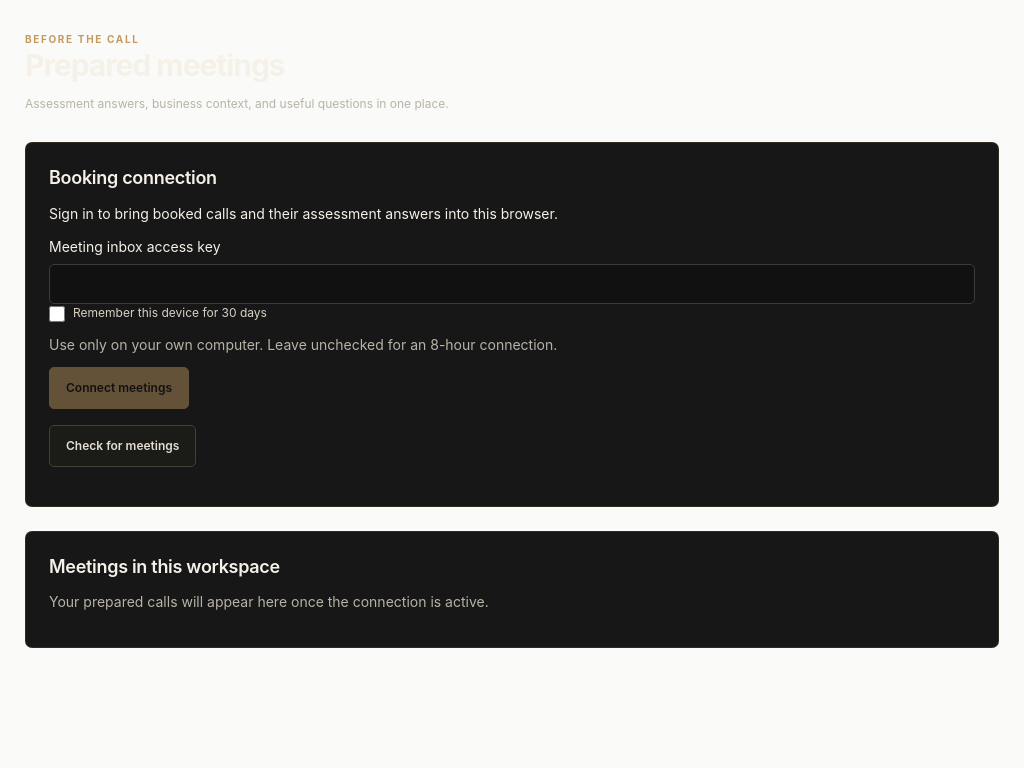
Test: meeting connection duration › starts unchecked and submits the selected remember-device choice true
The image size is (1024, 768).
Expected: the checkbox labelled "Remember this device for 30 days" is not checked, top-left (49, 306), bottom-right (65, 322)
Step 1. Type "fictional-test-key" into the password field labelled "Meeting inbox access key" → point(512, 284), box top-left (49, 264), bottom-right (975, 304)
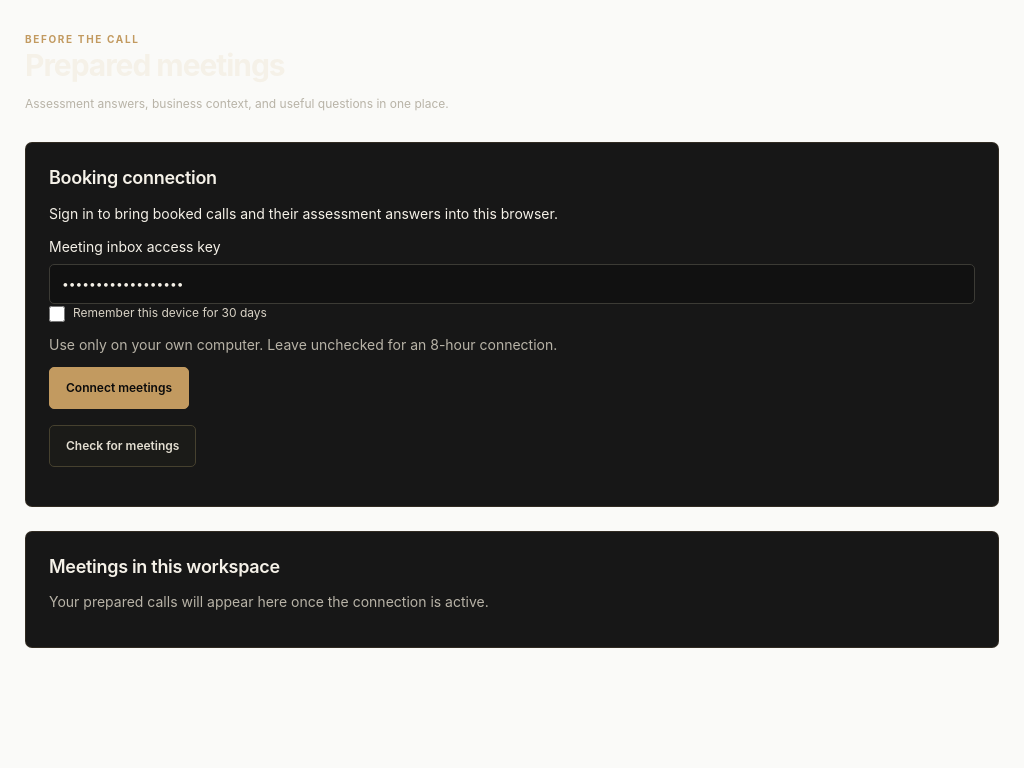
Step 2. Click the checkbox labelled "Remember this device for 30 days" → point(57, 314), box top-left (49, 306), bottom-right (65, 322)
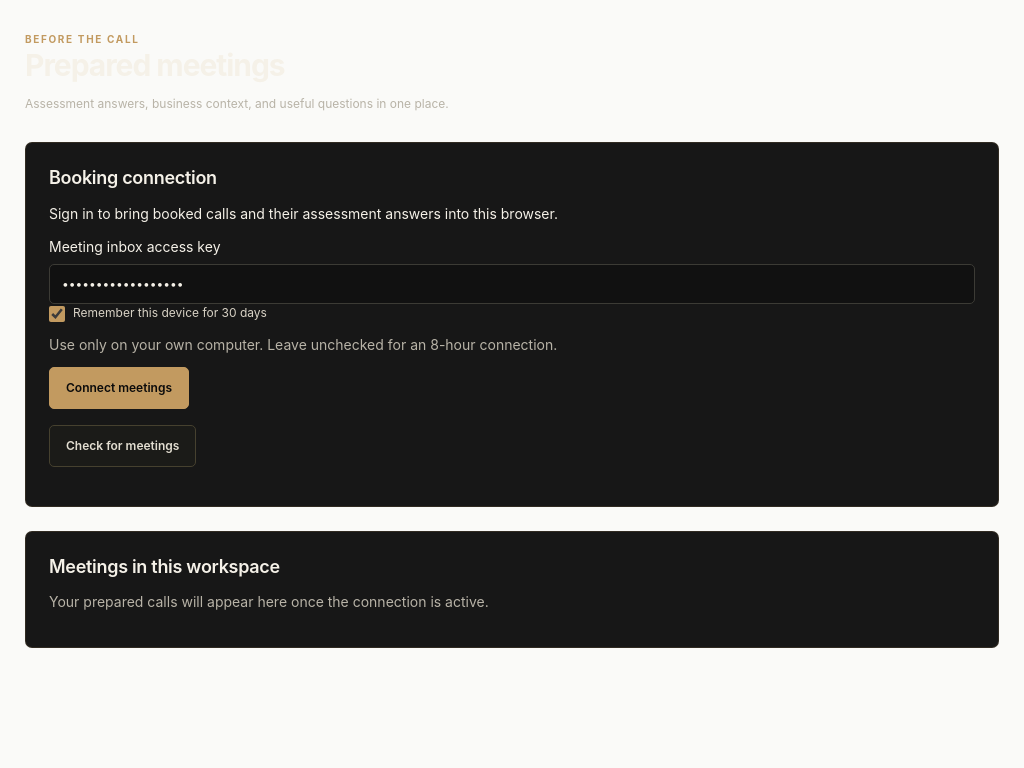
Step 3. Click the button "Connect meetings" → point(119, 388), box top-left (49, 367), bottom-right (189, 409)
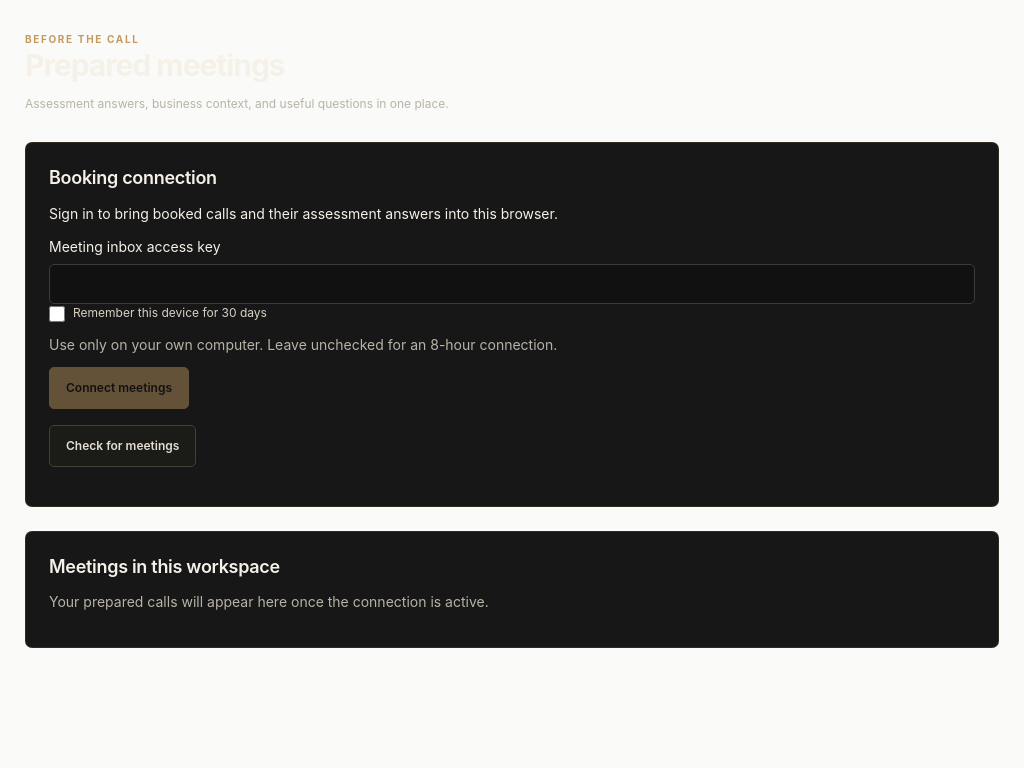
Expected: the checkbox labelled "Remember this device for 30 days" is not checked, top-left (49, 306), bottom-right (65, 322)
Expected: the password field labelled "Meeting inbox access key" is empty, top-left (49, 264), bottom-right (975, 304)
